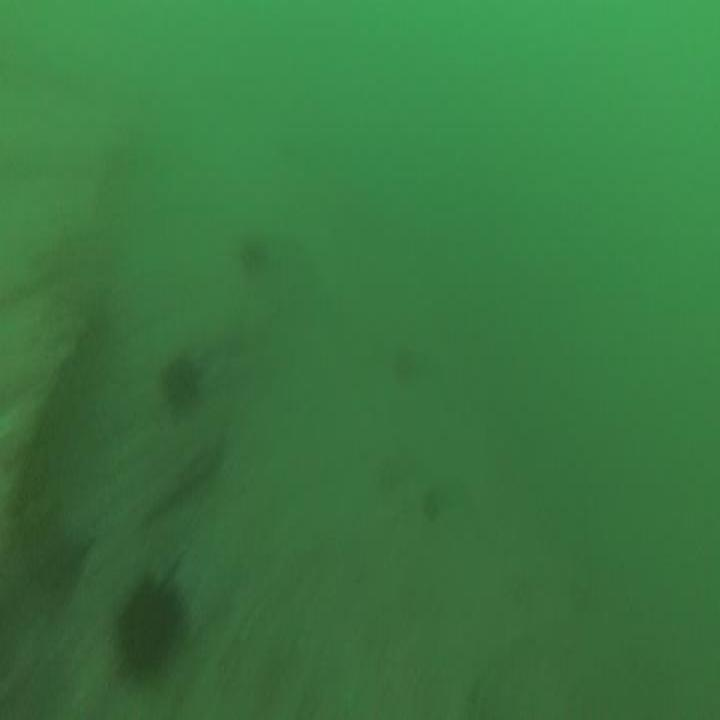echinus: (104, 539, 194, 688), (161, 341, 200, 425)
